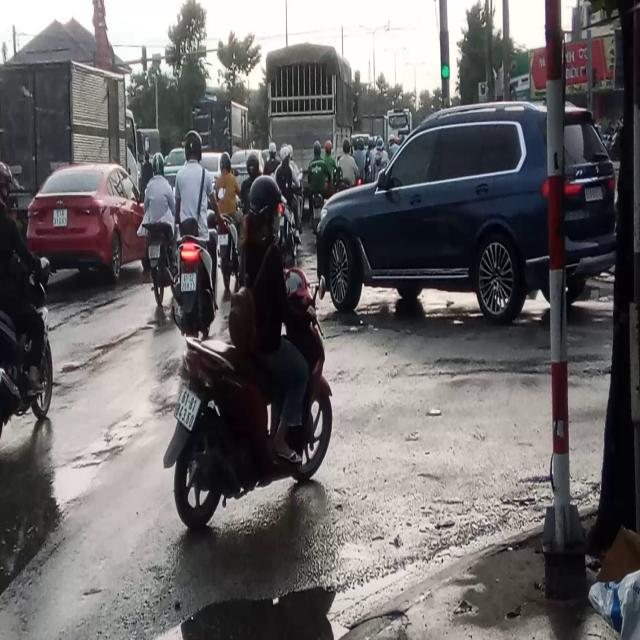bien_trang: (172, 385, 200, 430)
